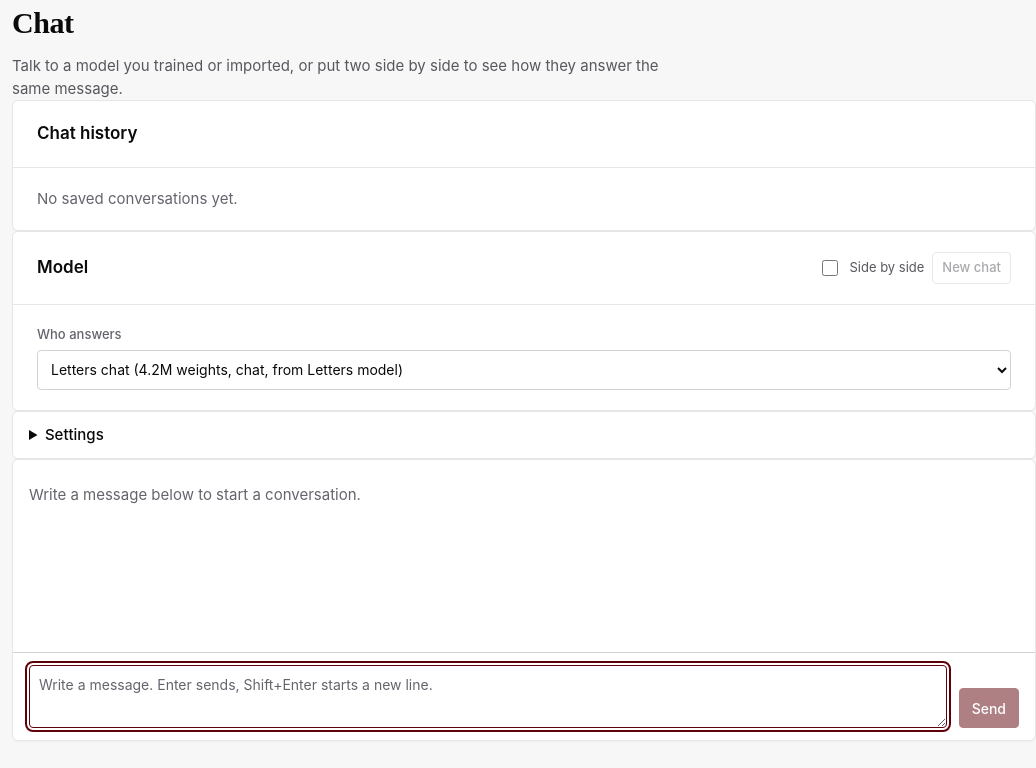
Scenario: shows the server's reason in that column, and tries again
Check: the dropdown labelled "Who answers" is shown, box [37,350,1011,390]
In the text box named "Your message": {"x": 488, "y": 696} [29,665,947,728], type "Hi"
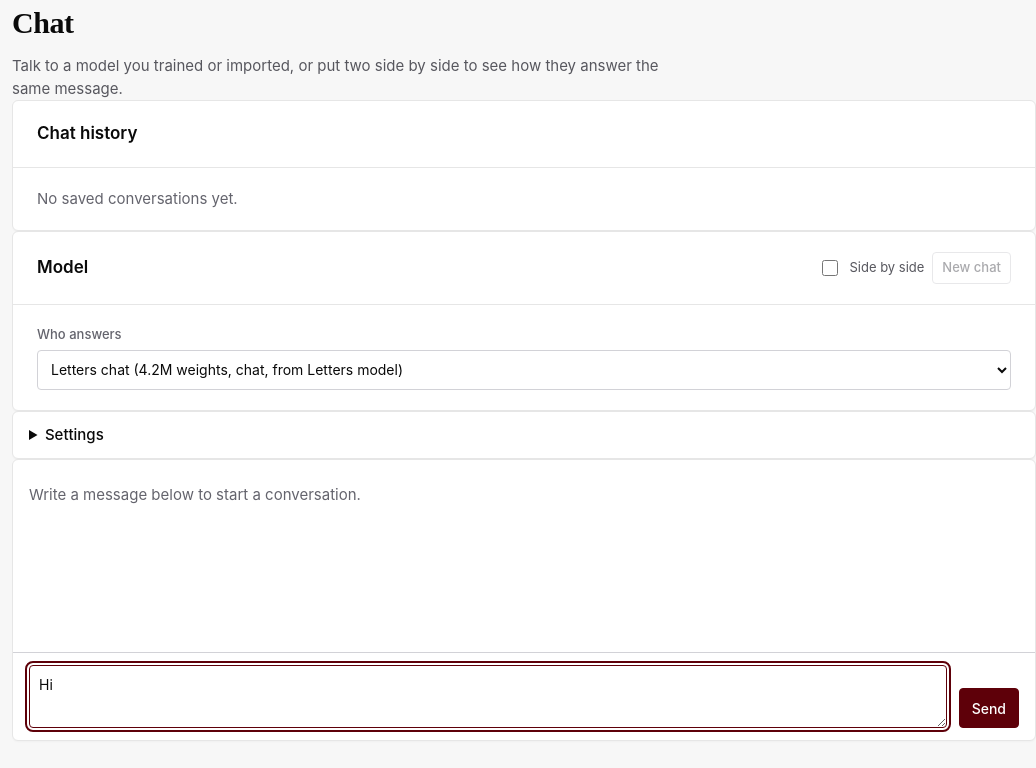
Press Enter in the text box named "Your message", box [29,665,947,728]
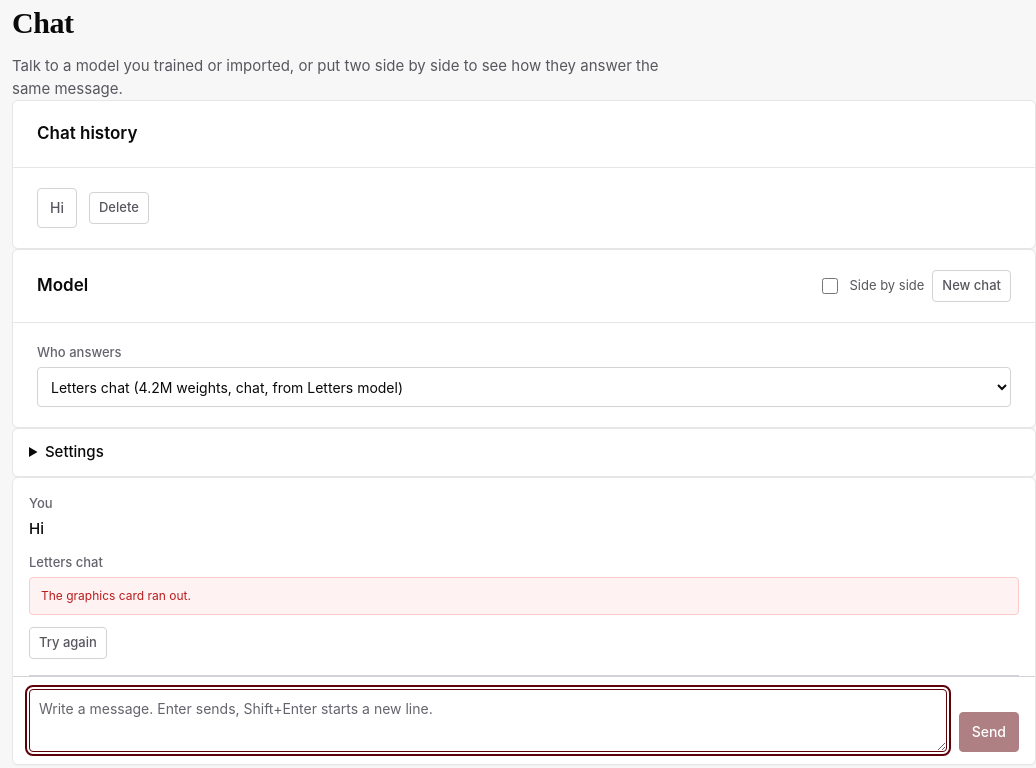
Check: the text "The graphics card ran out." is shown, box [29,576,1019,614]
Click the button "Try again": {"x": 68, "y": 642} [29,626,107,658]
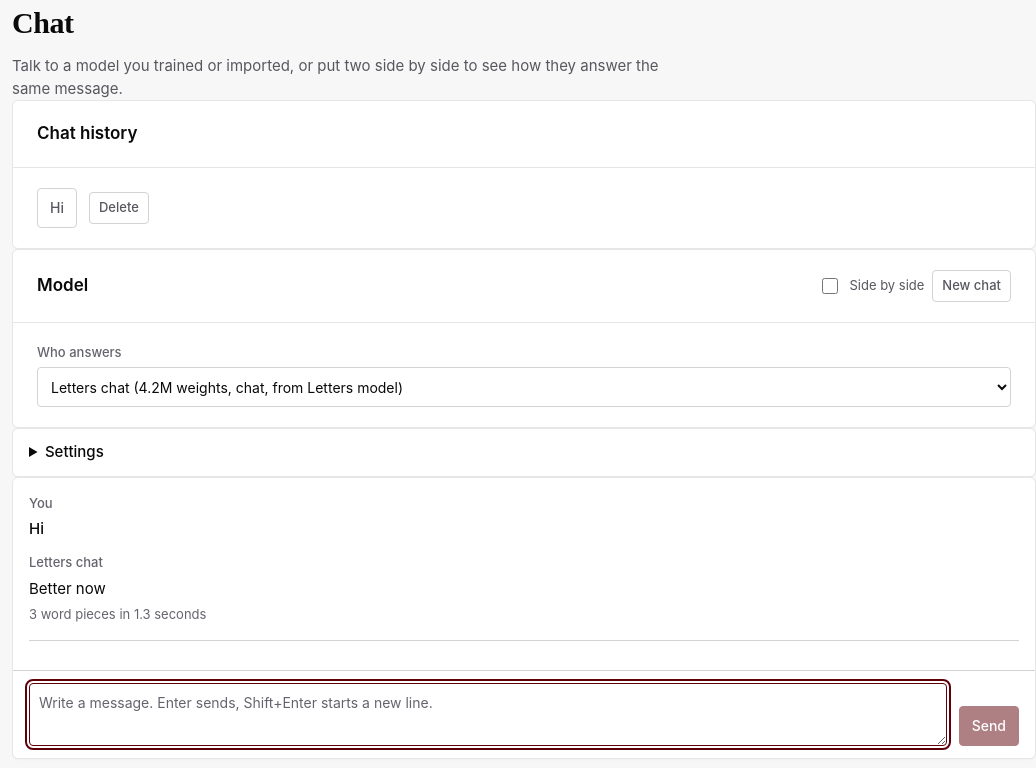
Check: the text "Better now" is shown, box [29,578,106,598]
Check: the text "The graphics card ran out." is gone
